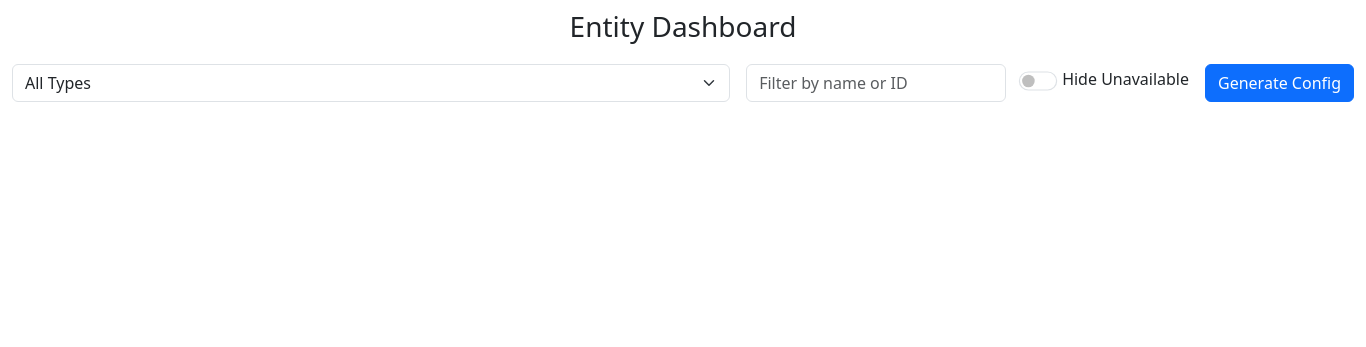
Test case: RawEntityView.vue › Areas Display › displays area aliases if present
Select "area" in the dropdown at (371, 83), box [12,64,730,102]
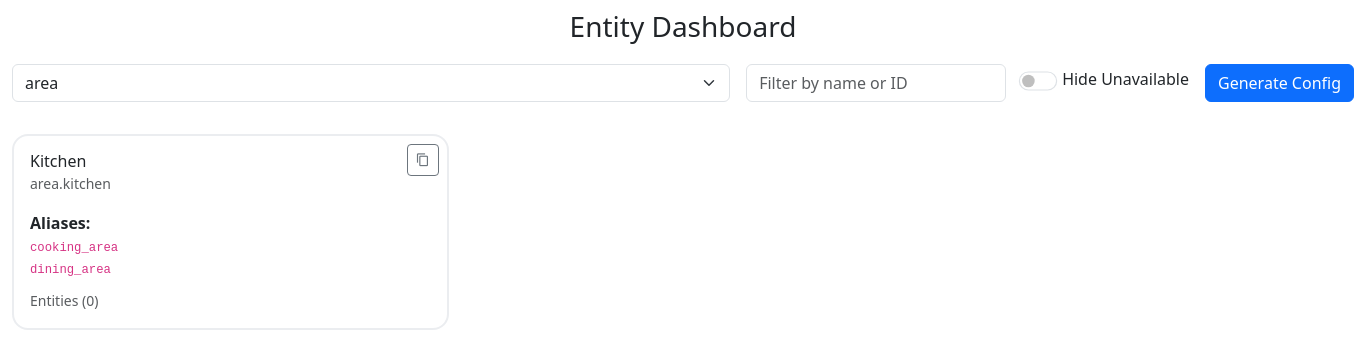
Expected: the text "Aliases:" is shown, [30,212,90,234]
Expected: the text "cooking_area" is shown, [30,241,118,255]
Expected: the text "dining_area" is shown, [30,263,111,277]
